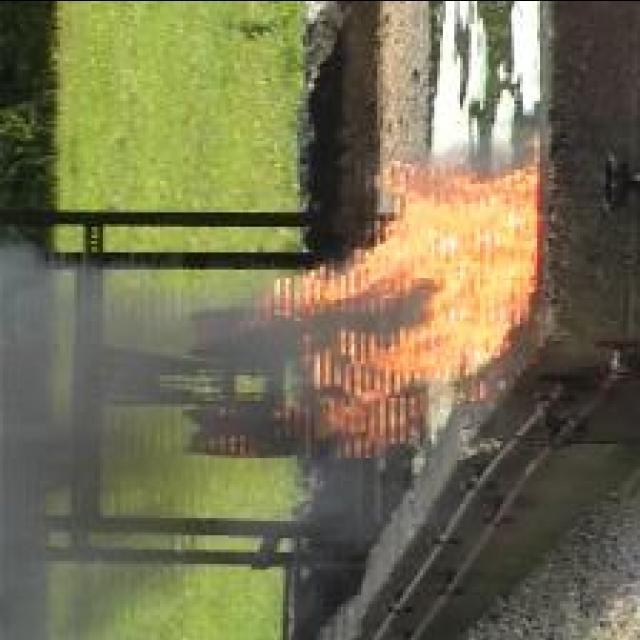Fire: (266, 132, 543, 458)
